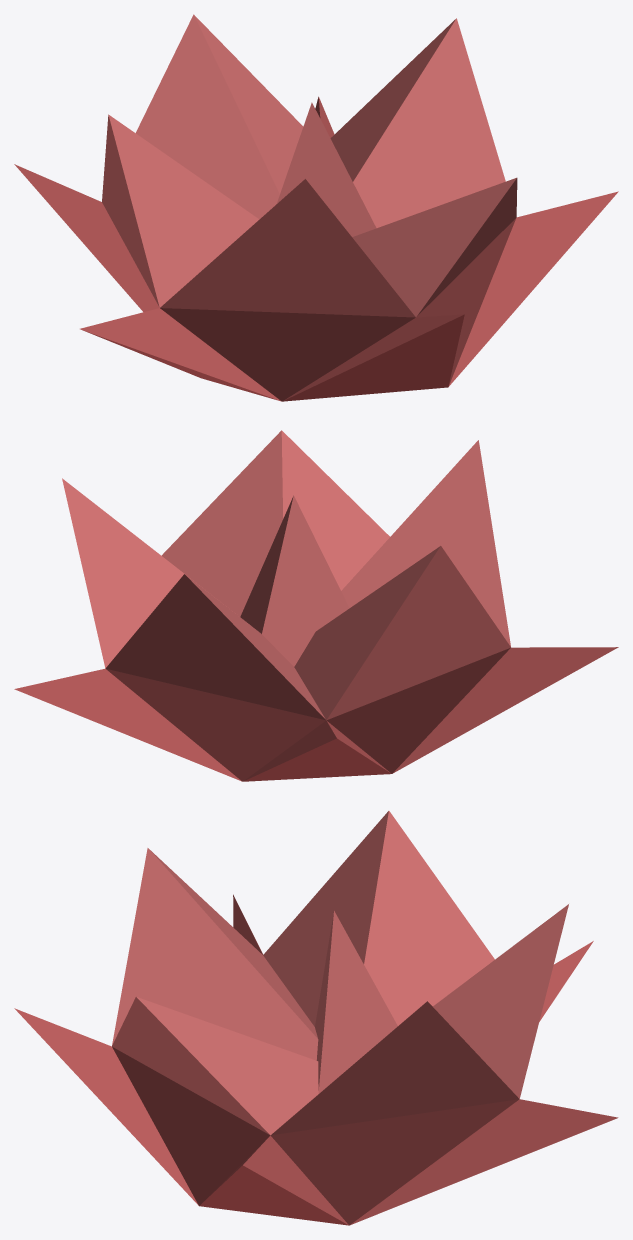
The model's file is BushAutumn5_Alt4.fbx.
3 views of the same model, one above another, from view 1: azimuth 30°, elevation 25°; view 2: azimuth 150°, elevation 25°; view 3: azimuth 270°, elevation 25° (orthographic). The views are drawn at different scales.
Visible parts, largest first — view 1: BushAutumn5_Alt4; view 2: BushAutumn5_Alt4; view 3: BushAutumn5_Alt4.
Boxes of the visible parts, <box> form: BushAutumn5_Alt4: <box>14,14,618,401</box>; BushAutumn5_Alt4: <box>14,430,618,781</box>; BushAutumn5_Alt4: <box>14,811,618,1225</box>.
Bounding box in the file's own units: 0.7751 × 0.3647 × 0.728.
